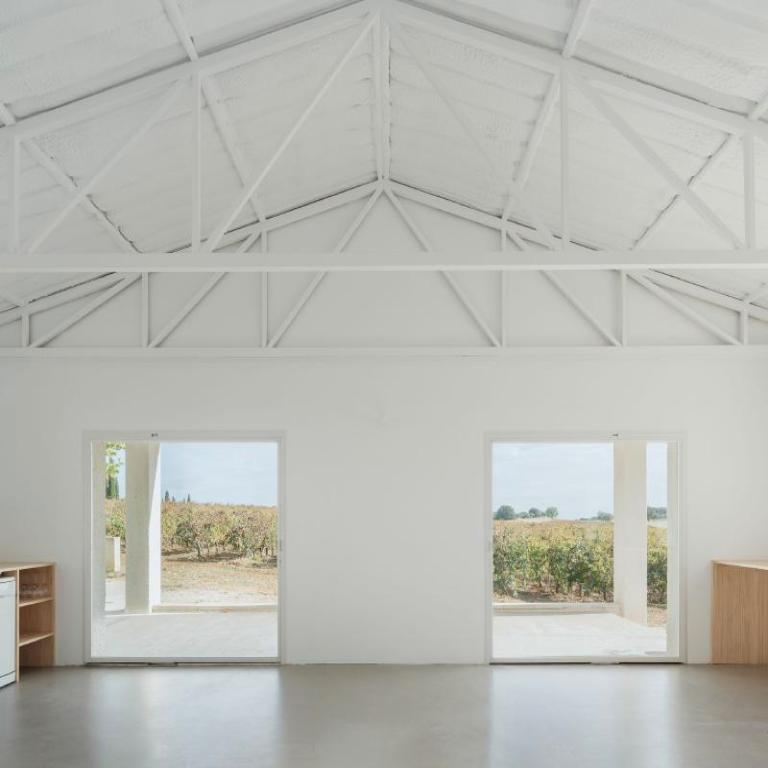white-walls: (4, 371, 755, 650)
